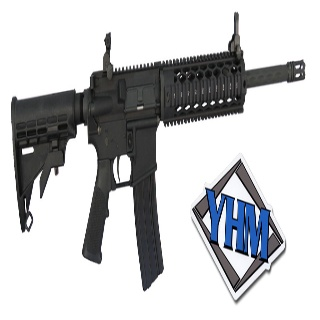rifle: (9, 9, 307, 291)
